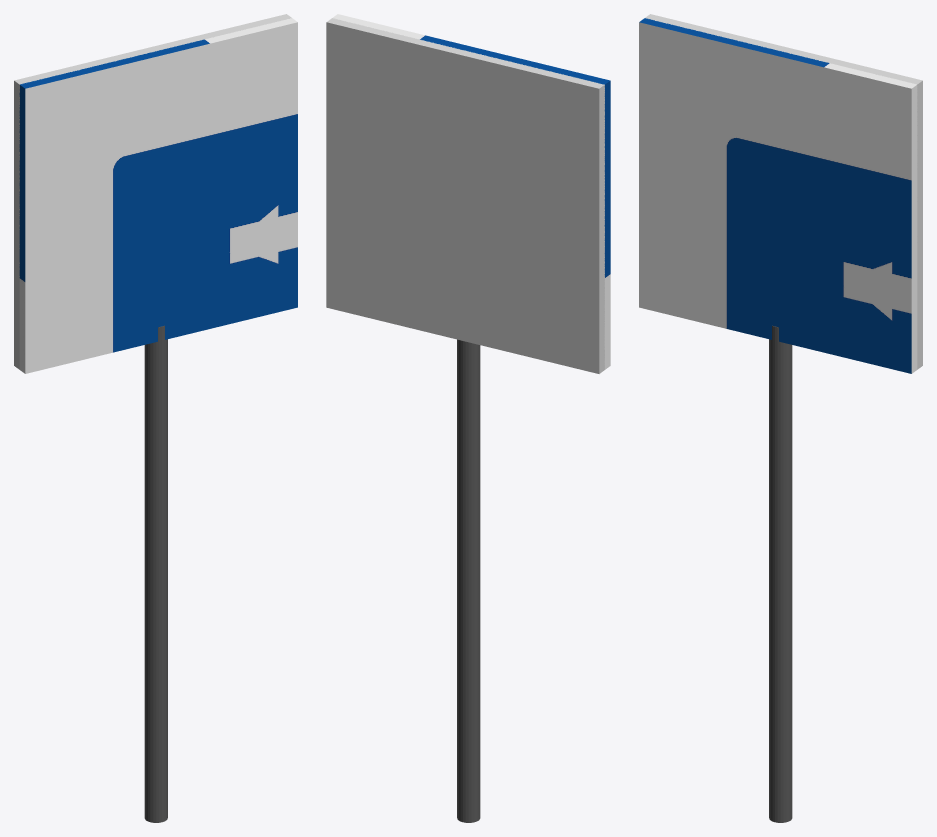
Rendered from teknofest_sign_ileriden_sola_mecburi_yon.fbx.
3 views of the same model, side by side, from view 1: azimuth 30°, elevation 25°; view 2: azimuth 150°, elevation 25°; view 3: azimuth 330°, elevation 25° (orthographic).
Visible parts, largest first — view 1: teknofest_sign_ileriden_sola_mecburi_yon_board, teknofest_sign_ileriden_sola_mecburi_yon_pole, teknofest_sign_ileriden_sola_mecburi_yon_back; view 2: teknofest_sign_ileriden_sola_mecburi_yon_back, teknofest_sign_ileriden_sola_mecburi_yon_pole, teknofest_sign_ileriden_sola_mecburi_yon_board; view 3: teknofest_sign_ileriden_sola_mecburi_yon_board, teknofest_sign_ileriden_sola_mecburi_yon_pole, teknofest_sign_ileriden_sola_mecburi_yon_back.
Part boxes in pixels (box(x1,y1,x2,y2)): teknofest_sign_ileriden_sola_mecburi_yon_board: box(19, 18, 297, 373); teknofest_sign_ileriden_sola_mecburi_yon_pole: box(144, 325, 167, 822); teknofest_sign_ileriden_sola_mecburi_yon_back: box(14, 14, 291, 369); teknofest_sign_ileriden_sola_mecburi_yon_back: box(326, 18, 604, 373); teknofest_sign_ileriden_sola_mecburi_yon_pole: box(457, 339, 480, 822); teknofest_sign_ileriden_sola_mecburi_yon_board: box(333, 14, 610, 369); teknofest_sign_ileriden_sola_mecburi_yon_board: box(639, 18, 917, 373); teknofest_sign_ileriden_sola_mecburi_yon_pole: box(769, 325, 792, 822); teknofest_sign_ileriden_sola_mecburi_yon_back: box(645, 14, 922, 369).
Size of the model in its own units: 95 by 255 by 7.05.
3 materials, 1 textured.
